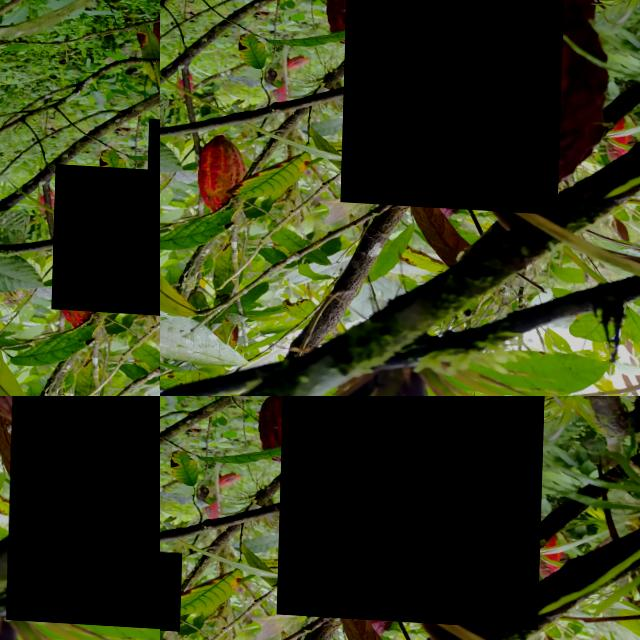Fitoftora: (10, 396, 160, 625)
Monilia: (343, 0, 567, 208)
Sana: (279, 396, 548, 622), (54, 163, 160, 313), (259, 396, 294, 458), (160, 548, 184, 629)
